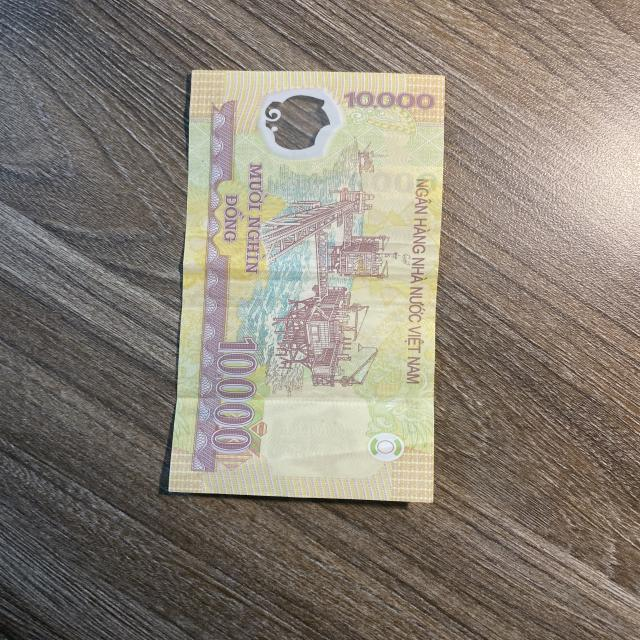10 000 VND: (168, 68, 446, 505)
